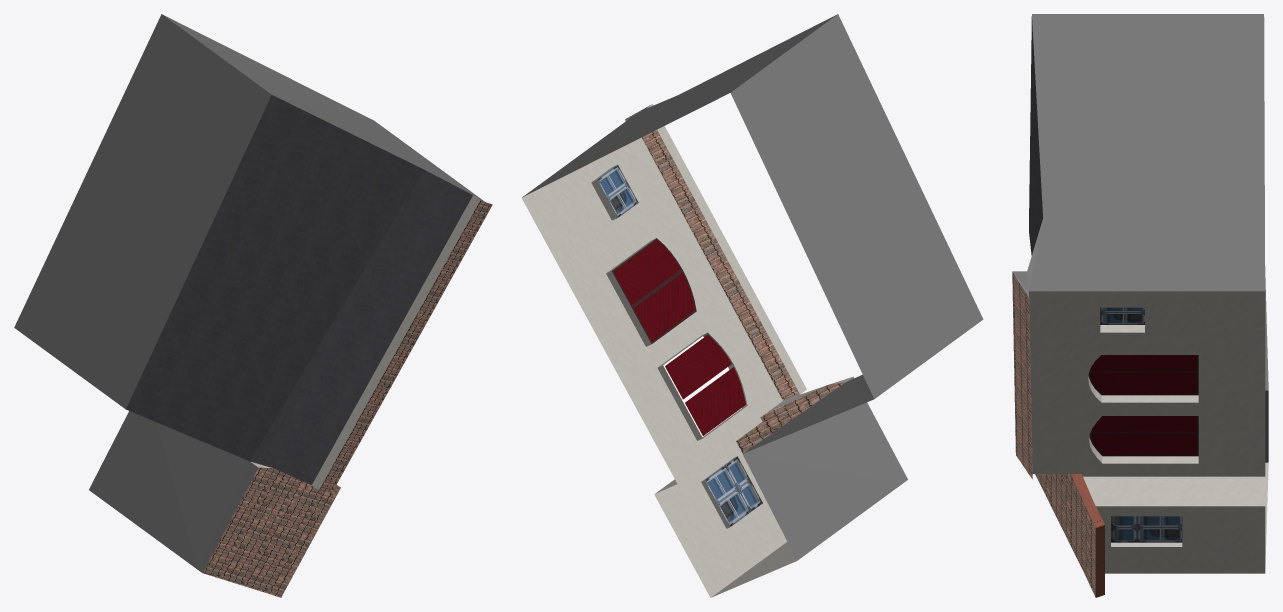
Rendered from Lai_30e.obj.
The picture shows the model from 3 angles, left to right: view 1: azimuth 30°, elevation 25°; view 2: azimuth 150°, elevation 25°; view 3: azimuth 270°, elevation 25°; orthographic projection. The views are drawn at different scales.
Parts seen in each view (by area): view 1: Lai_30e; view 2: Lai_30e; view 3: Lai_30e.
Part boxes in pixels (x1=…): Lai_30e: x1=14, y1=14, x2=492, y2=597; Lai_30e: x1=522, y1=14, x2=983, y2=597; Lai_30e: x1=1012, y1=14, x2=1268, y2=597.
Bounding box in the file's own units: 10.48 × 14.59 × 6.02.
